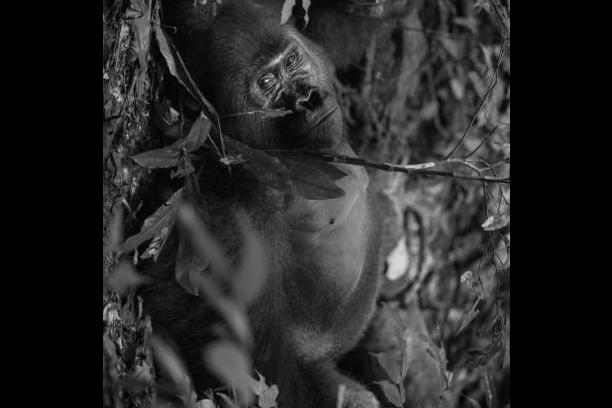goriile_montagne: (148, 0, 447, 408)
